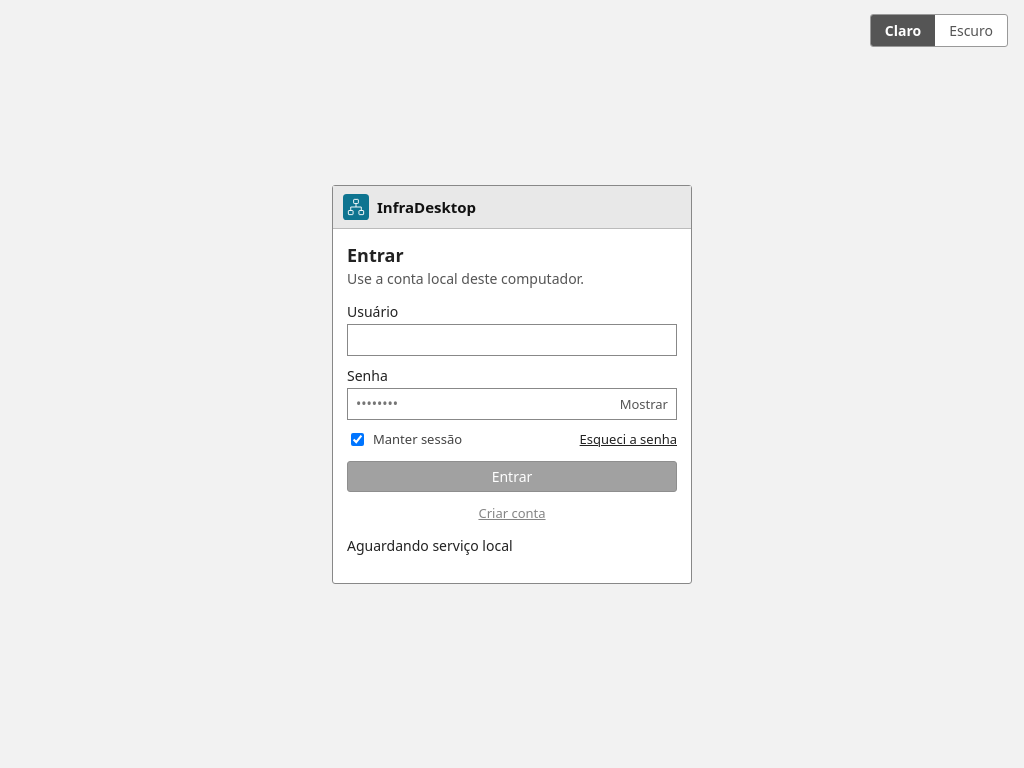
it: shows ADMIN_AUTH_CANCELLED clearly without exposing a technical error
The image size is (1024, 768).
Step 1. Click the button with aria-label "Recuperar acesso" → (628, 439), box [580,430,677,448]
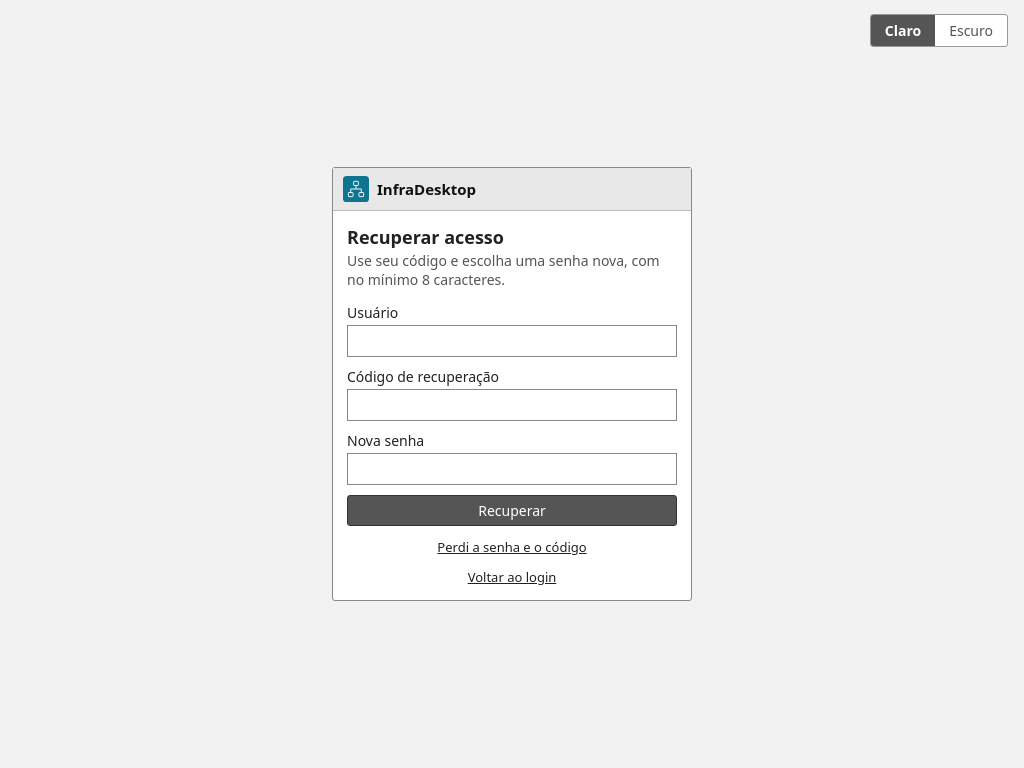
Step 2. Click the button "Perdi a senha e o código" → (512, 547), box [437,538,587,556]
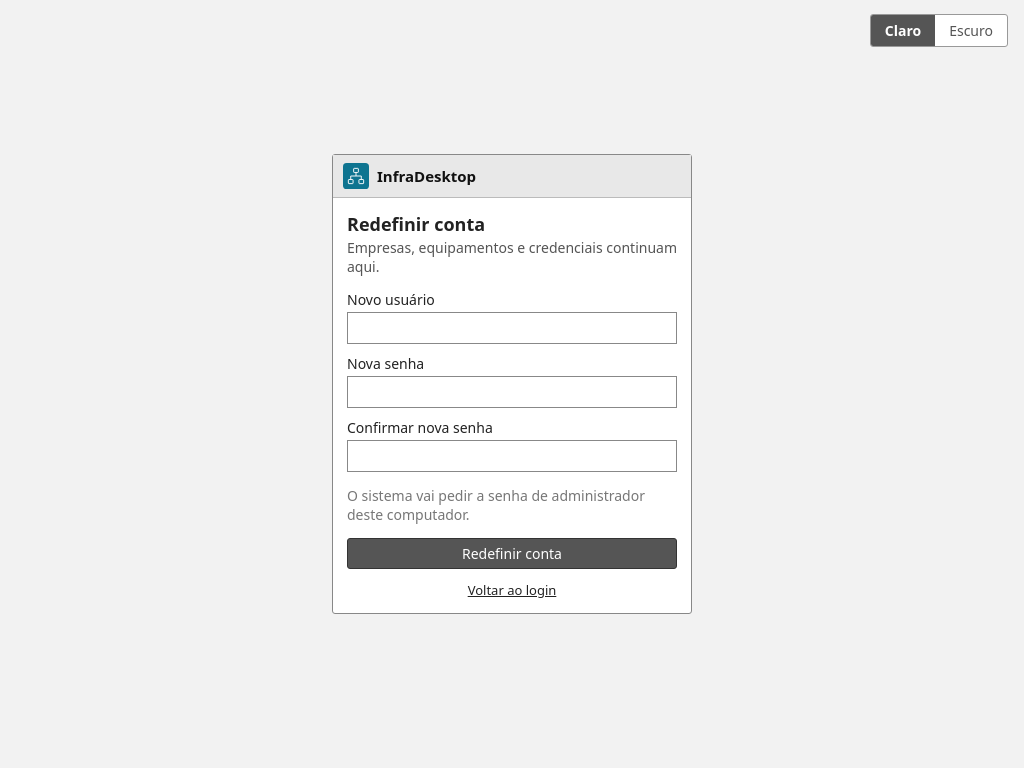
Now the heading "Redefinir conta" is shown, box [347,212,485,236]
Step 3. Type "synthetic" into the field labelled "Novo usuário" → (512, 328), box [347,312,677,344]
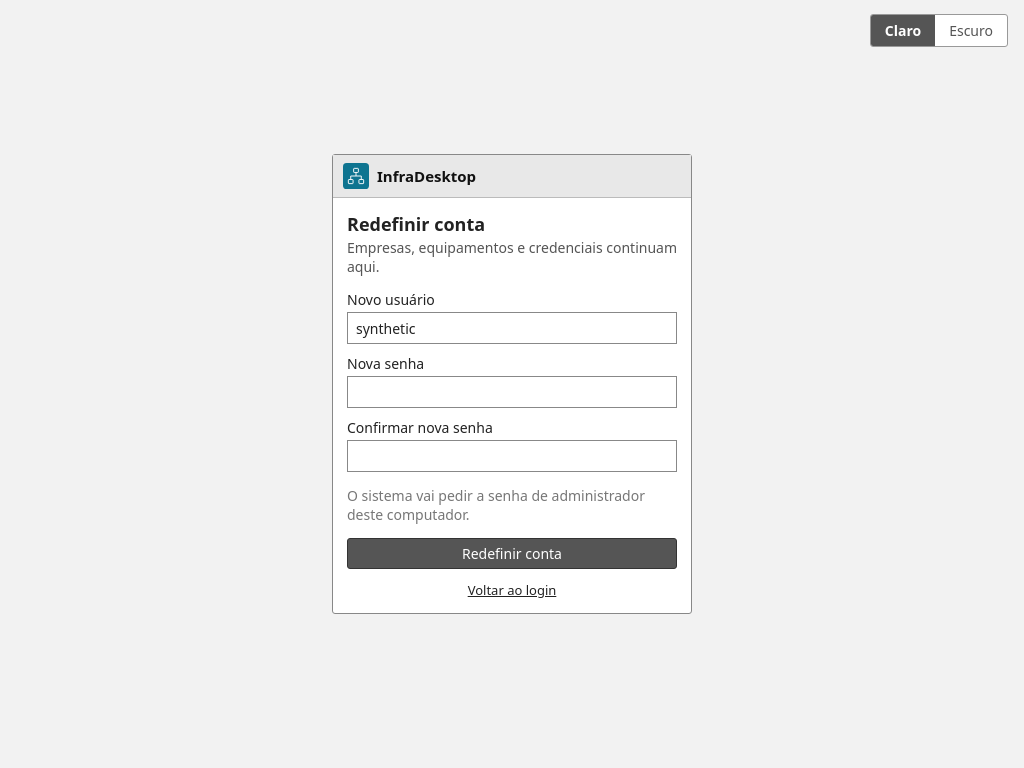
Step 4. Type "synthetic account password" into the password field labelled "Nova senha" → (512, 392), box [347,376,677,408]
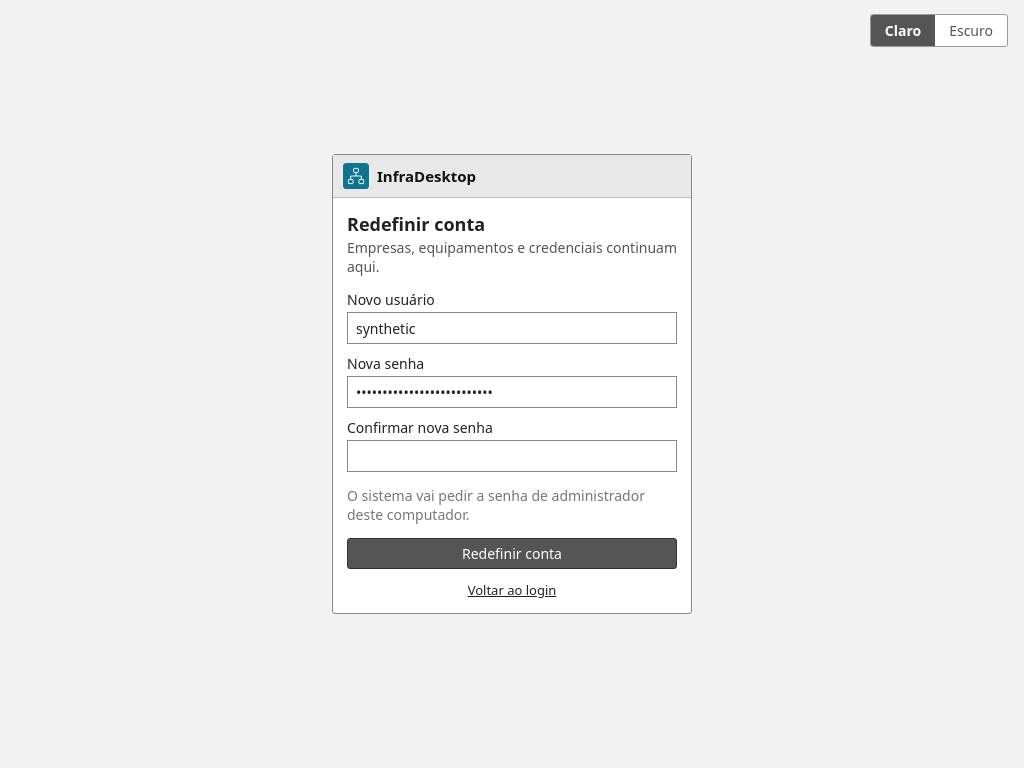
Step 5. Type "synthetic account password" into the password field labelled "Confirmar nova senha" → (512, 456), box [347,440,677,472]
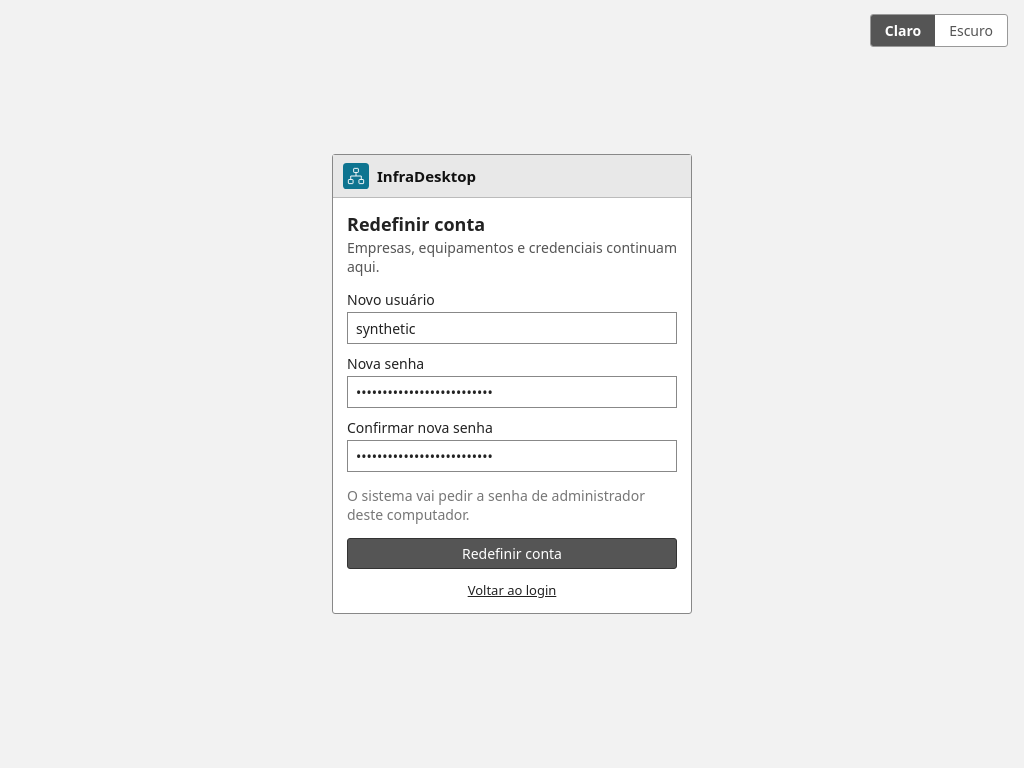
Step 6. Click the button "Redefinir conta" → (512, 554), box [347,538,677,569]
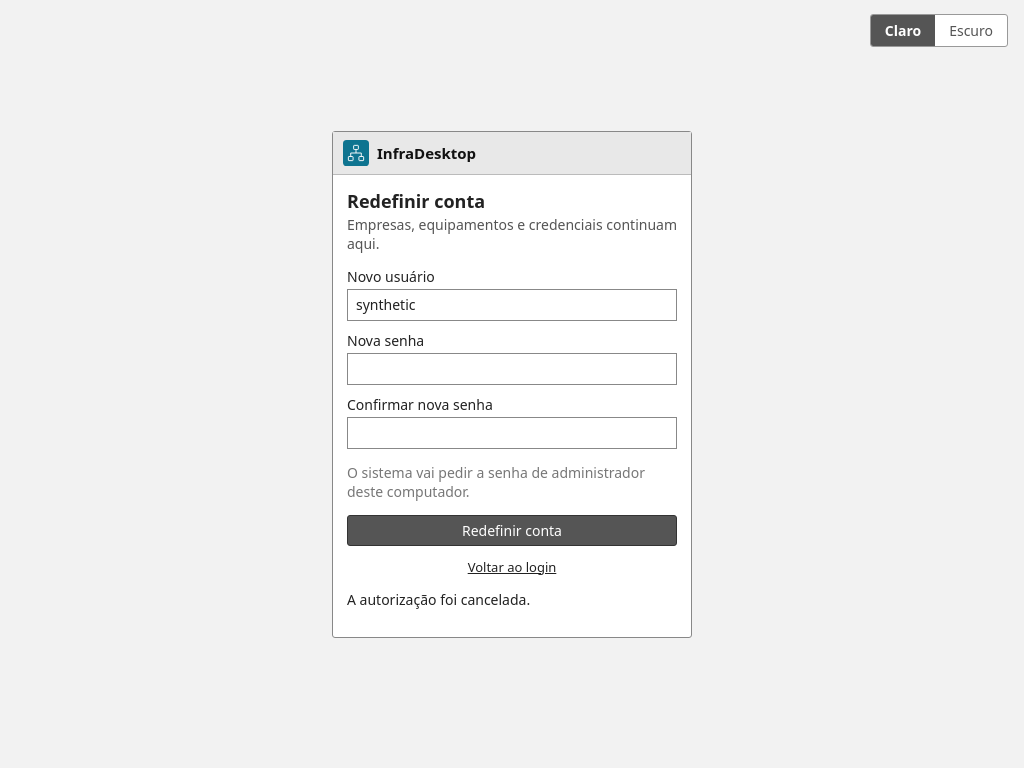
Now the message reads "A autorização foi cancelada.", box [347,590,530,608]
Now the password field labelled "Nova senha" is empty, box [347,352,677,384]
